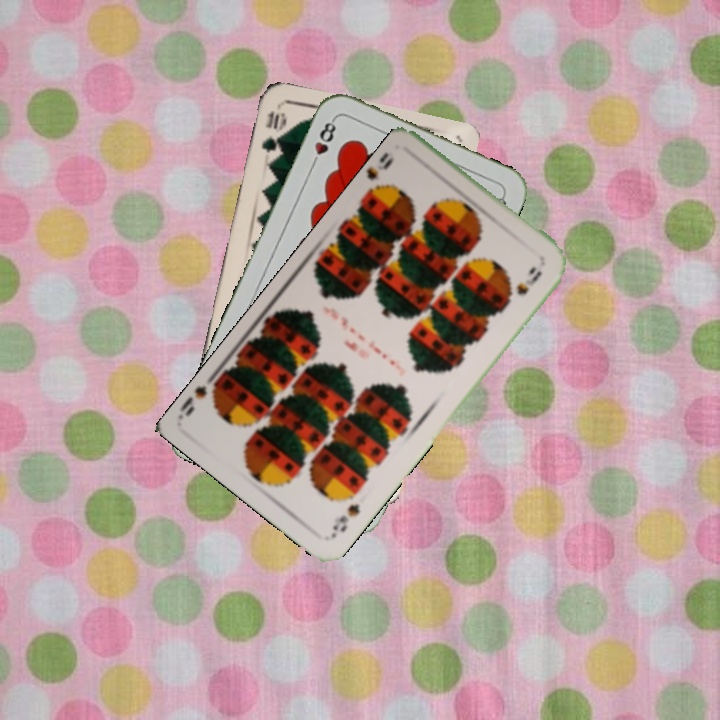G10: (257, 107, 288, 156)
H8: (307, 114, 339, 170)
S9: (363, 149, 397, 202), (327, 499, 363, 540)
